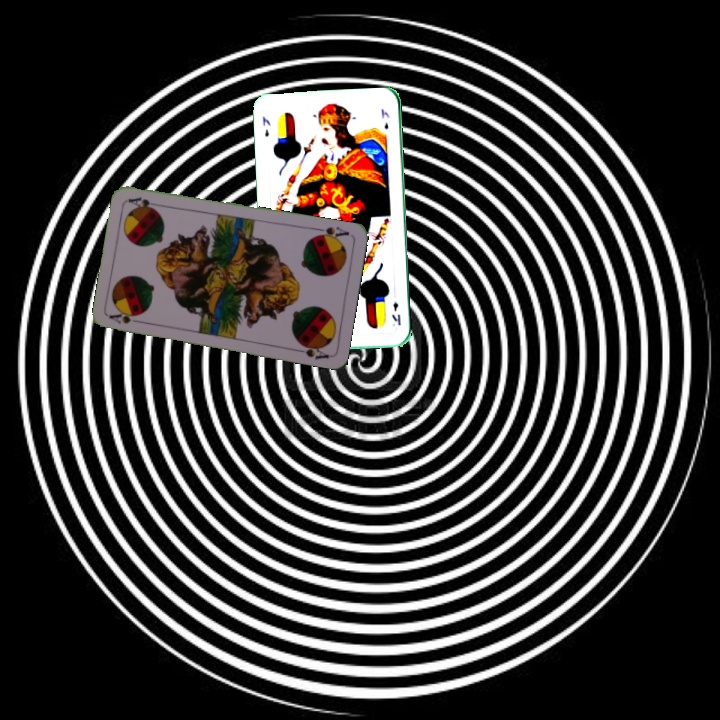EK: (388, 298, 403, 328), (259, 112, 273, 139)
SA: (311, 223, 351, 243), (106, 309, 146, 326)
